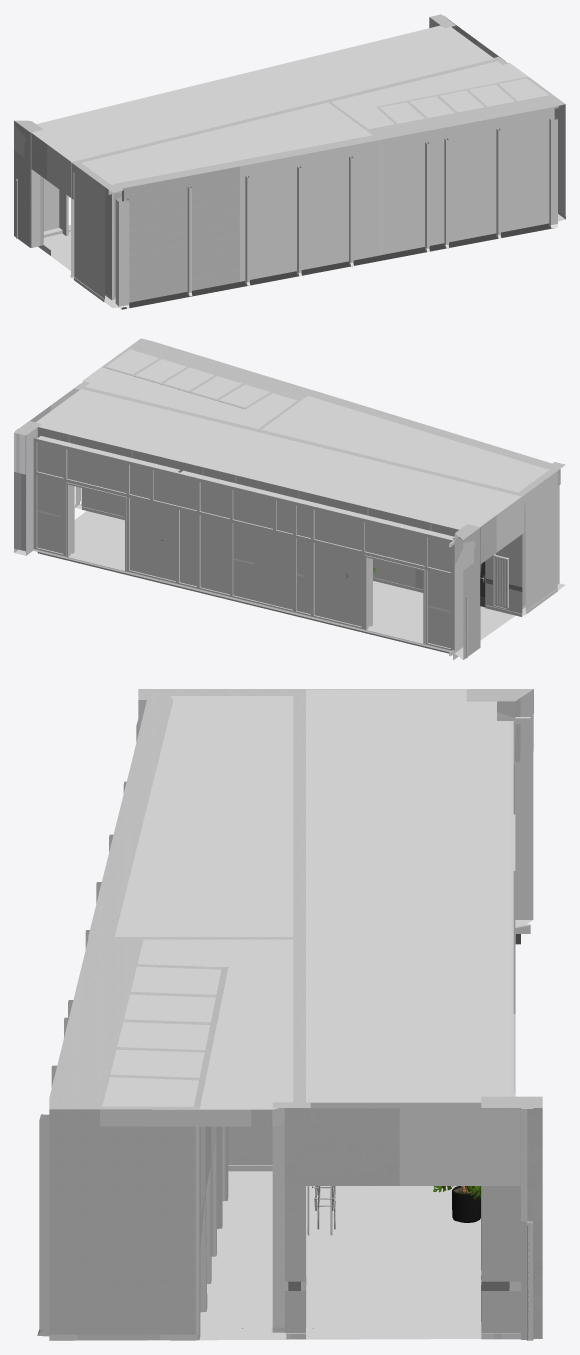
The model's file is -1_floor_hall_sized.glb.
3 views of the same model, one above another, from view 1: azimuth 30°, elevation 25°; view 2: azimuth 150°, elevation 25°; view 3: azimuth 270°, elevation 25° (orthographic). The views are drawn at different scales.
Visible parts, largest first — view 1: SIMP_COL, NOCOL_Murs, NOCOL_Baie, NOCOL_Sol, NOCOL_Plafond; view 2: SIMP_COL, NOCOL_Murs, NOCOL_Plafond, NOCOL_Baie, NOCOL_UFR_MIM_V1_Montant_portes, NOCOL_Radiateur_5, NOCOL_Cube_002; view 3: SIMP_COL, NOCOL_Murs, NOCOL_Plafond, NOCOL_Baie, NOCOL_Plante_3, NOCOL_UFR_MIM_V1_Montant_portes.
Part boxes in pixels (<box>): SIMP_COL: <box>14,18,565,309</box>; NOCOL_Murs: <box>14,14,565,302</box>; NOCOL_Baie: <box>43,117,557,308</box>; NOCOL_Sol: <box>121,223,554,309</box>; NOCOL_Plafond: <box>31,18,558,204</box>; SIMP_COL: <box>14,349,565,660</box>; NOCOL_Murs: <box>14,338,565,659</box>; NOCOL_Plafond: <box>19,405,560,564</box>; NOCOL_Baie: <box>33,436,558,651</box>; NOCOL_UFR_MIM_V1_Montant_portes: <box>68,485,467,657</box>; NOCOL_Radiateur_5: <box>493,554,508,608</box>; NOCOL_Cube_002: <box>38,435,431,626</box>; SIMP_COL: <box>37,689,533,1340</box>; NOCOL_Murs: <box>49,689,542,1340</box>; NOCOL_Plafond: <box>251,689,520,1185</box>; NOCOL_Baie: <box>37,717,515,1336</box>; NOCOL_Plante_3: <box>433,1186,480,1222</box>; NOCOL_UFR_MIM_V1_Montant_portes: <box>513,801,532,1340</box>.
Size of what is drawn, in the model's own units: 15.65 by 4.21 by 7.93.
Materials: 28 (13 with a texture image).
